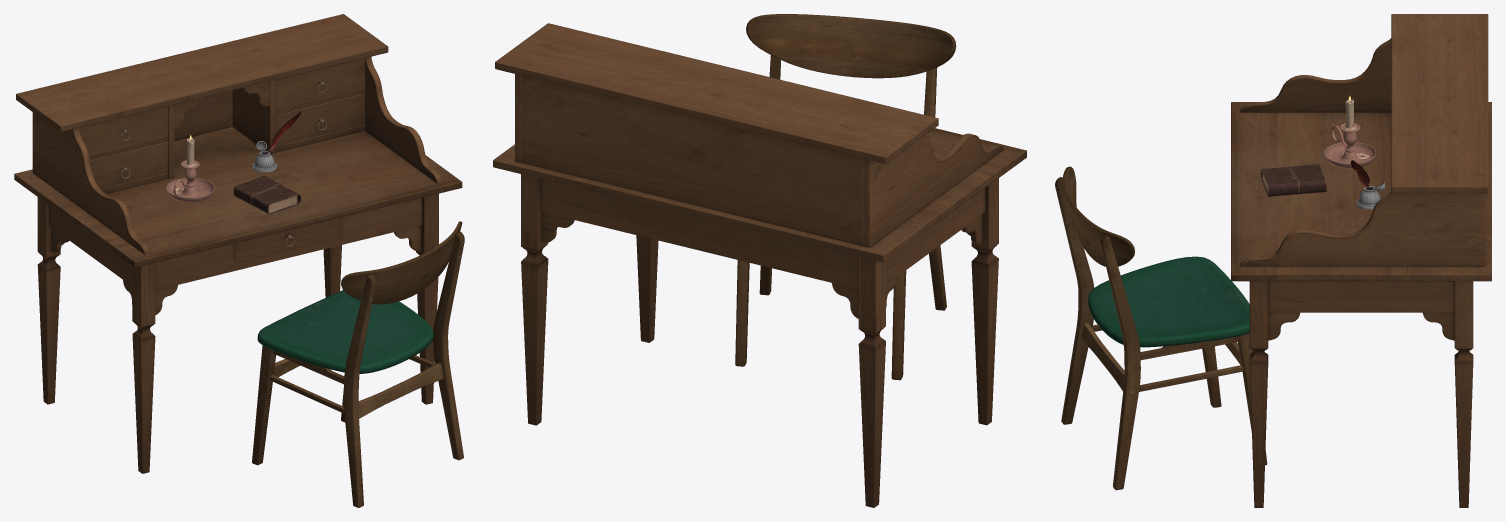
Rendered from wooden_writing_desk_with_props.glb.
The picture shows the model from 3 angles, left to right: view 1: azimuth 30°, elevation 25°; view 2: azimuth 150°, elevation 25°; view 3: azimuth 270°, elevation 25°; orthographic projection. The views are drawn at different scales.
Parts seen in each view (by area): view 1: Table_17, Chair_11, Table_drawer_4_23, Table_drawer_3_25, Table_drawer_1_27, Table_drawer_2_21, Table_drawer_5_19, Cover_2, Candlestick_7; view 2: Table_17, Chair_11; view 3: Table_17, Chair_11, Cover_2, Candlestick_7.
Boxes of the visible parts, x1,y1,x2,y2 form: Table_17: [14, 14, 462, 473]; Chair_11: [252, 221, 464, 507]; Table_drawer_4_23: [276, 93, 364, 146]; Table_drawer_3_25: [276, 58, 364, 108]; Table_drawer_1_27: [79, 106, 168, 154]; Table_drawer_2_21: [90, 141, 168, 188]; Table_drawer_5_19: [234, 217, 341, 262]; Cover_2: [233, 175, 301, 214]; Candlestick_7: [166, 160, 214, 202]; Table_17: [493, 23, 1026, 507]; Chair_11: [735, 14, 956, 380]; Table_17: [1231, 14, 1491, 507]; Chair_11: [1055, 166, 1267, 490]; Cover_2: [1260, 164, 1326, 196]; Candlestick_7: [1324, 123, 1375, 168].
Bounding box in the file's own units: 1.38 × 1.22 × 1.47.
8 materials, 7 textured.
